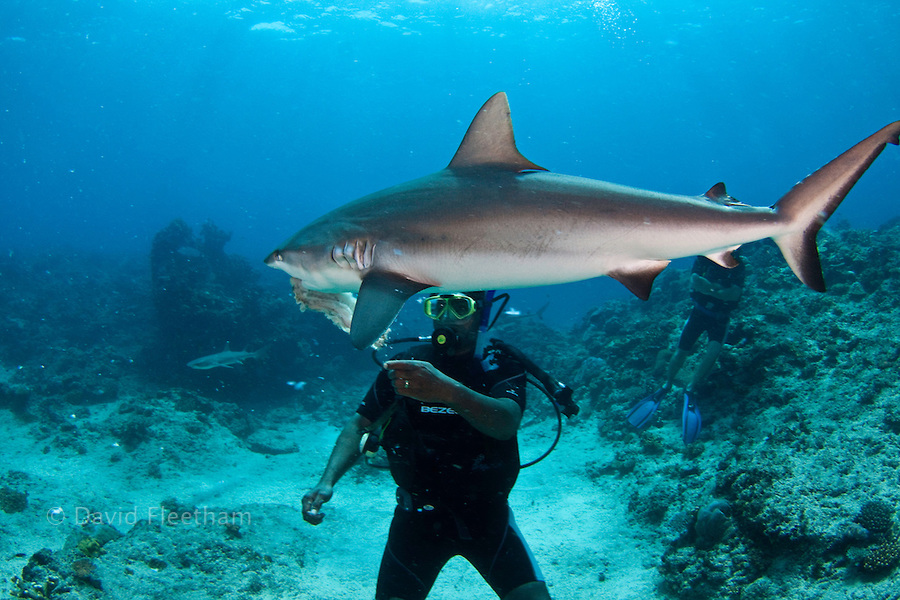Carcharhinus_amblyrhynchos: (255, 85, 900, 354)
